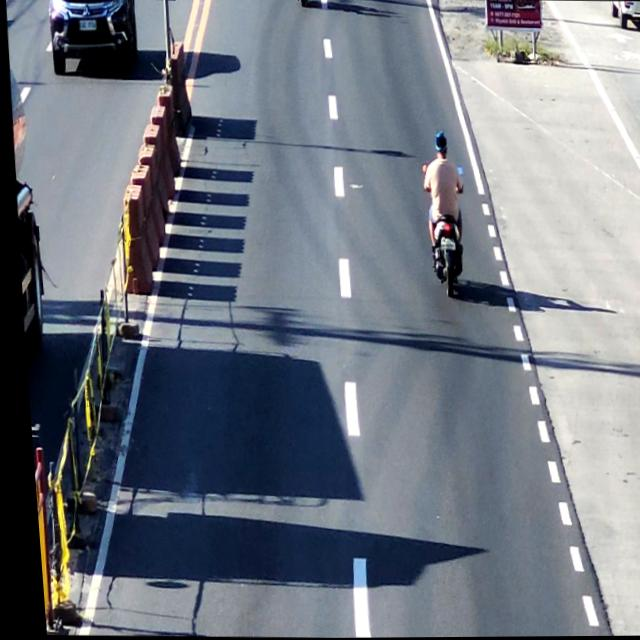License-Plate: (432, 235, 455, 256), (76, 16, 97, 34)
Motorcycle: (415, 133, 472, 300)
